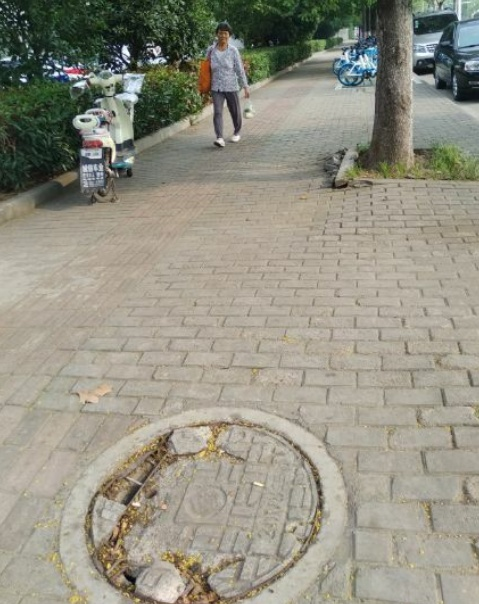broke: (58, 406, 350, 604)
